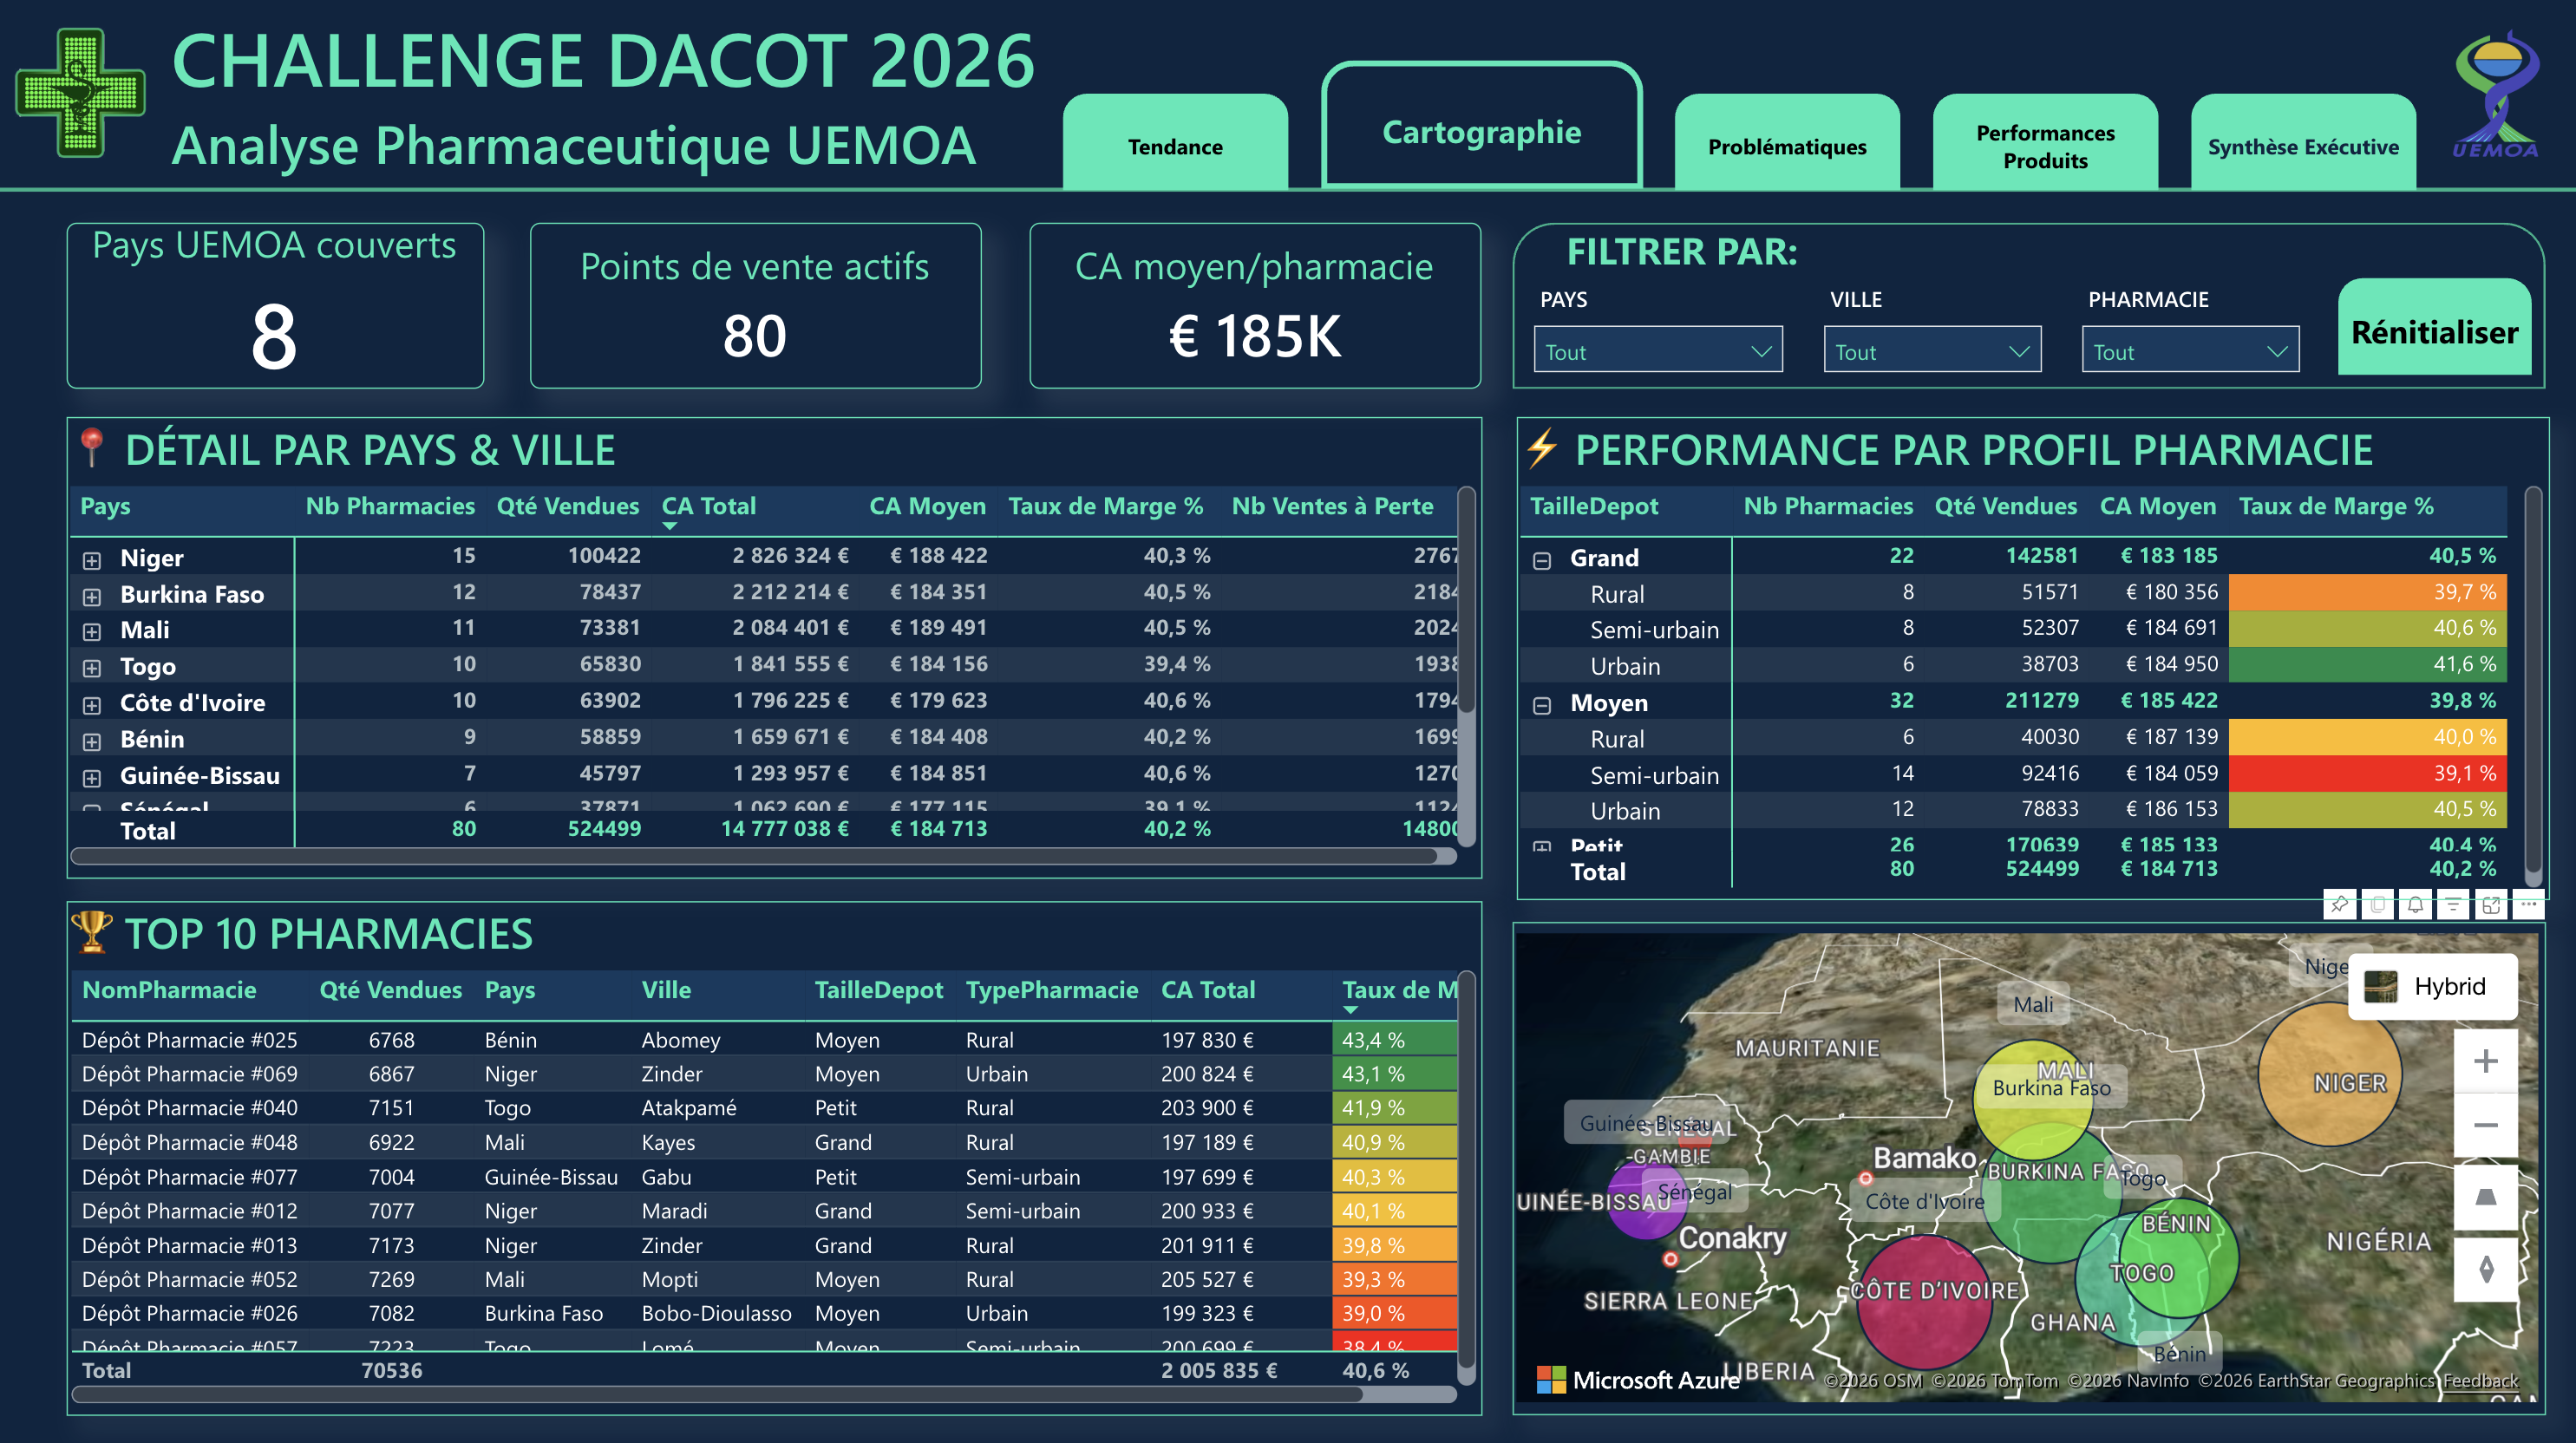

The page's visual inventory and layout, read from the dashboard file:
{"tool":"powerbi","page":{"name":"Cartographie","canvas":[1280,720],"ordinal":3},"visuals":[{"type":"textbox","box":[80,0,448,96],"z":0},{"type":"shape","box":[0,80,1280,32],"z":1000},{"type":"image","box":[0,0,80,96],"z":2000},{"type":"image","box":[1200,16,80,64],"z":3000},{"type":"actionButton","box":[1088,48,112,48],"z":4000},{"type":"actionButton","box":[528,48,112,48],"z":5000},{"type":"actionButton","box":[960,48,112,48],"z":6000},{"type":"actionButton","box":[656,32,160,64],"z":7000},{"type":"actionButton","box":[832,48,112,48],"z":8000},{"type":"cardVisual","fields":{"Data":["⚡ Mesures.Nb Pays"]},"box":[32.7,112.3,207.4,82.6],"z":9000},{"type":"cardVisual","fields":{"Data":["⚡ Mesures.Nb Pharmacies"]},"box":[263.5,112.3,224.5,82.6],"z":10000},{"type":"cardVisual","fields":{"Data":["⚡ Mesures.CA Moyen Pharmacie"]},"box":[511.4,112.3,224.5,82.6],"z":11000},{"type":"pivotTable","title":"📍 DÉTAIL PAR PAYS & VILLE","fields":{"Rows":["DimPharmacie.Pays","DimPharmacie.Ville"],"Values":["⚡ Mesures.Nb Pharmacies","⚡ Mesures.Qté Vendues","⚡ Mesures.CA Total","⚡ Mesures.CA Moyen Pharmacie","⚡ Mesures.Taux de Marge %","⚡ Mesures.Nb Ventes à Perte"]},"box":[32.7,208.9,703.1,229.2],"z":12000},{"type":"azureMap","fields":{"Category":["DimPharmacie.Pays"],"Size":["⚡ Mesures.CA Total"]},"box":[751.5,459.9,512.9,244.8],"z":13000},{"type":"tableEx","title":"🏆 TOP 10 PHARMACIES","fields":{"Values":["DimPharmacie.NomPharmacie","⚡ Mesures.Qté Vendues","DimPharmacie.Pays","DimPharmacie.Ville","DimPharmacie.TailleDepot","DimPharmacie.TypePharmacie","⚡ Mesures.CA Total","⚡ Mesures.Taux de Marge %"]},"box":[32.7,449,703.1,255.7],"z":14000},{"type":"shape","title":" FILTRER PAR:","box":[751.5,112.3,512.9,82.6],"z":15000},{"type":"actionButton","box":[1161,140,96,48],"z":16000},{"type":"slicer","title":"Filtre","fields":{"Values":["DimPharmacie.Ville"]},"box":[896,138,128,54],"z":17000},{"type":"pivotTable","title":"⚡  PERFORMANCE PAR PROFIL PHARMACIE","fields":{"Values":["⚡ Mesures.Nb Pharmacies","⚡ Mesures.Qté Vendues","⚡ Mesures.CA Moyen Pharmacie","⚡ Mesures.Taux de Marge %"],"Rows":["DimPharmacie.TailleDepot","DimPharmacie.TypePharmacie"]},"box":[753,208.9,512.9,240.1],"z":18000},{"type":"slicer","title":"Filtre","fields":{"Values":["DimPharmacie.Pays"]},"box":[752,138,144,54],"z":19000},{"type":"slicer","title":"Filtre","fields":{"Values":["DimPharmacie.NomPharmacie"]},"box":[1024,138,128,54],"z":20000},{"type":"textbox","box":[768,108,288,48],"z":21000}]}

Visuals, with their boxes in screenshot pixels (x1, y1, x2, y2), scaled from the page's 1280x720 canvas onto the 2576x1443 screenshot:
textbox: box=[161, 0, 1062, 193]
shape: box=[0, 160, 2575, 225]
image: box=[0, 0, 161, 193]
image: box=[2415, 32, 2575, 160]
actionButton: box=[2189, 96, 2415, 193]
actionButton: box=[1062, 96, 1288, 193]
actionButton: box=[1932, 96, 2157, 193]
actionButton: box=[1320, 64, 1642, 193]
actionButton: box=[1674, 96, 1899, 193]
cardVisual - ⚡ Mesures.Nb Pays: box=[66, 225, 483, 390]
cardVisual - ⚡ Mesures.Nb Pharmacies: box=[530, 225, 982, 390]
cardVisual - ⚡ Mesures.CA Moyen Pharmacie: box=[1030, 225, 1481, 390]
"📍 DÉTAIL PAR PAYS & VILLE" pivotTable: box=[66, 419, 1481, 878]
azureMap - DimPharmacie.Pays x ⚡ Mesures.CA Total: box=[1513, 922, 2545, 1413]
"🏆 TOP 10 PHARMACIES" tableEx: box=[66, 900, 1481, 1413]
" FILTRER PAR:" shape: box=[1513, 225, 2545, 390]
actionButton: box=[2337, 281, 2530, 376]
"Filtre" slicer: box=[1803, 277, 2061, 385]
"⚡  PERFORMANCE PAR PROFIL PHARMACIE" pivotTable: box=[1515, 419, 2547, 900]
"Filtre" slicer: box=[1514, 277, 1803, 385]
"Filtre" slicer: box=[2061, 277, 2318, 385]
textbox: box=[1546, 217, 2125, 313]
